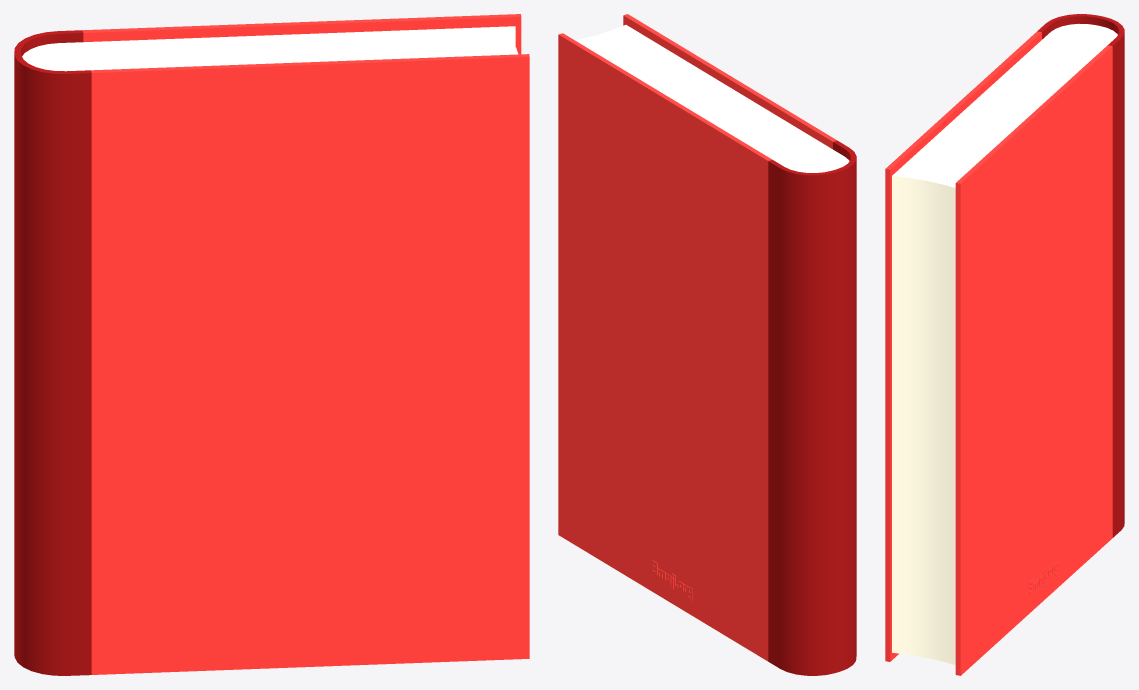
The model's file is closed_book.gltf.
3 renders of one model, left to right at view 1: azimuth 30°, elevation 25°; view 2: azimuth 150°, elevation 25°; view 3: azimuth 270°, elevation 25°, orthographic. The views are drawn at different scales.
Parts seen in each view (by area): view 1: Cube.944; view 2: Cube.944; view 3: Cube.944.
Boxes of the visible parts, box(x1,y1,x2,y2) form: Cube.944: box(14, 14, 529, 675); Cube.944: box(558, 14, 856, 675); Cube.944: box(885, 14, 1124, 675).
Size of the model in its own units: 1.55 by 2.1 by 0.9263.
Materials: 1 (1 with a texture image).
